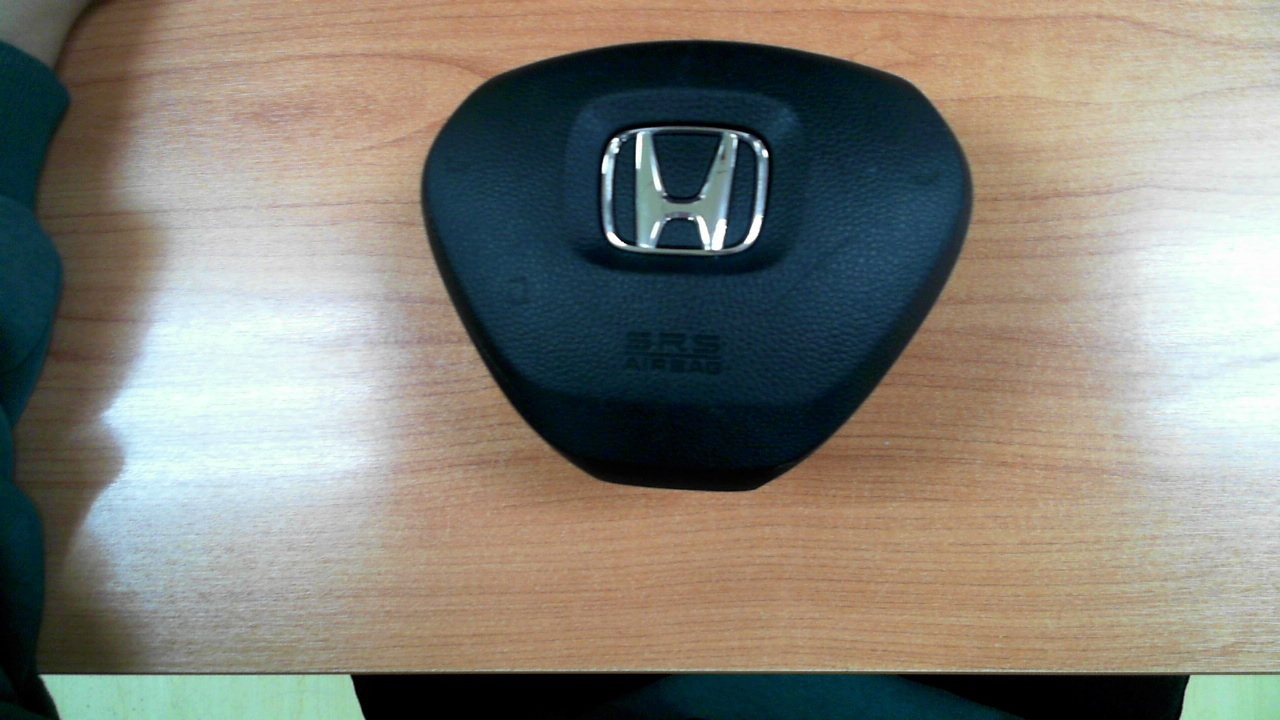Airbag: (419, 40, 973, 492)
Honda: (600, 125, 770, 256)
